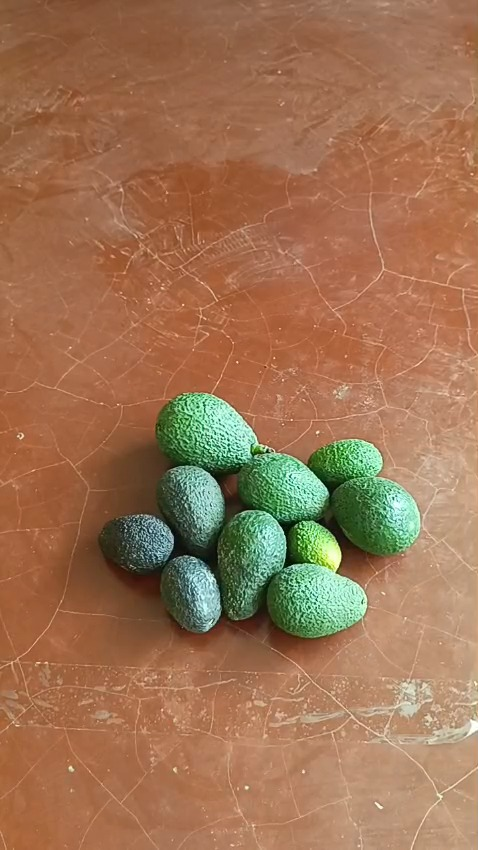Primera: (156, 392, 258, 473)
Segunda: (216, 509, 287, 620), (266, 563, 366, 637), (328, 475, 420, 555), (236, 450, 331, 527), (155, 464, 226, 556)
Tercera: (97, 513, 175, 576), (159, 554, 222, 632), (306, 438, 383, 491), (285, 518, 340, 572)
